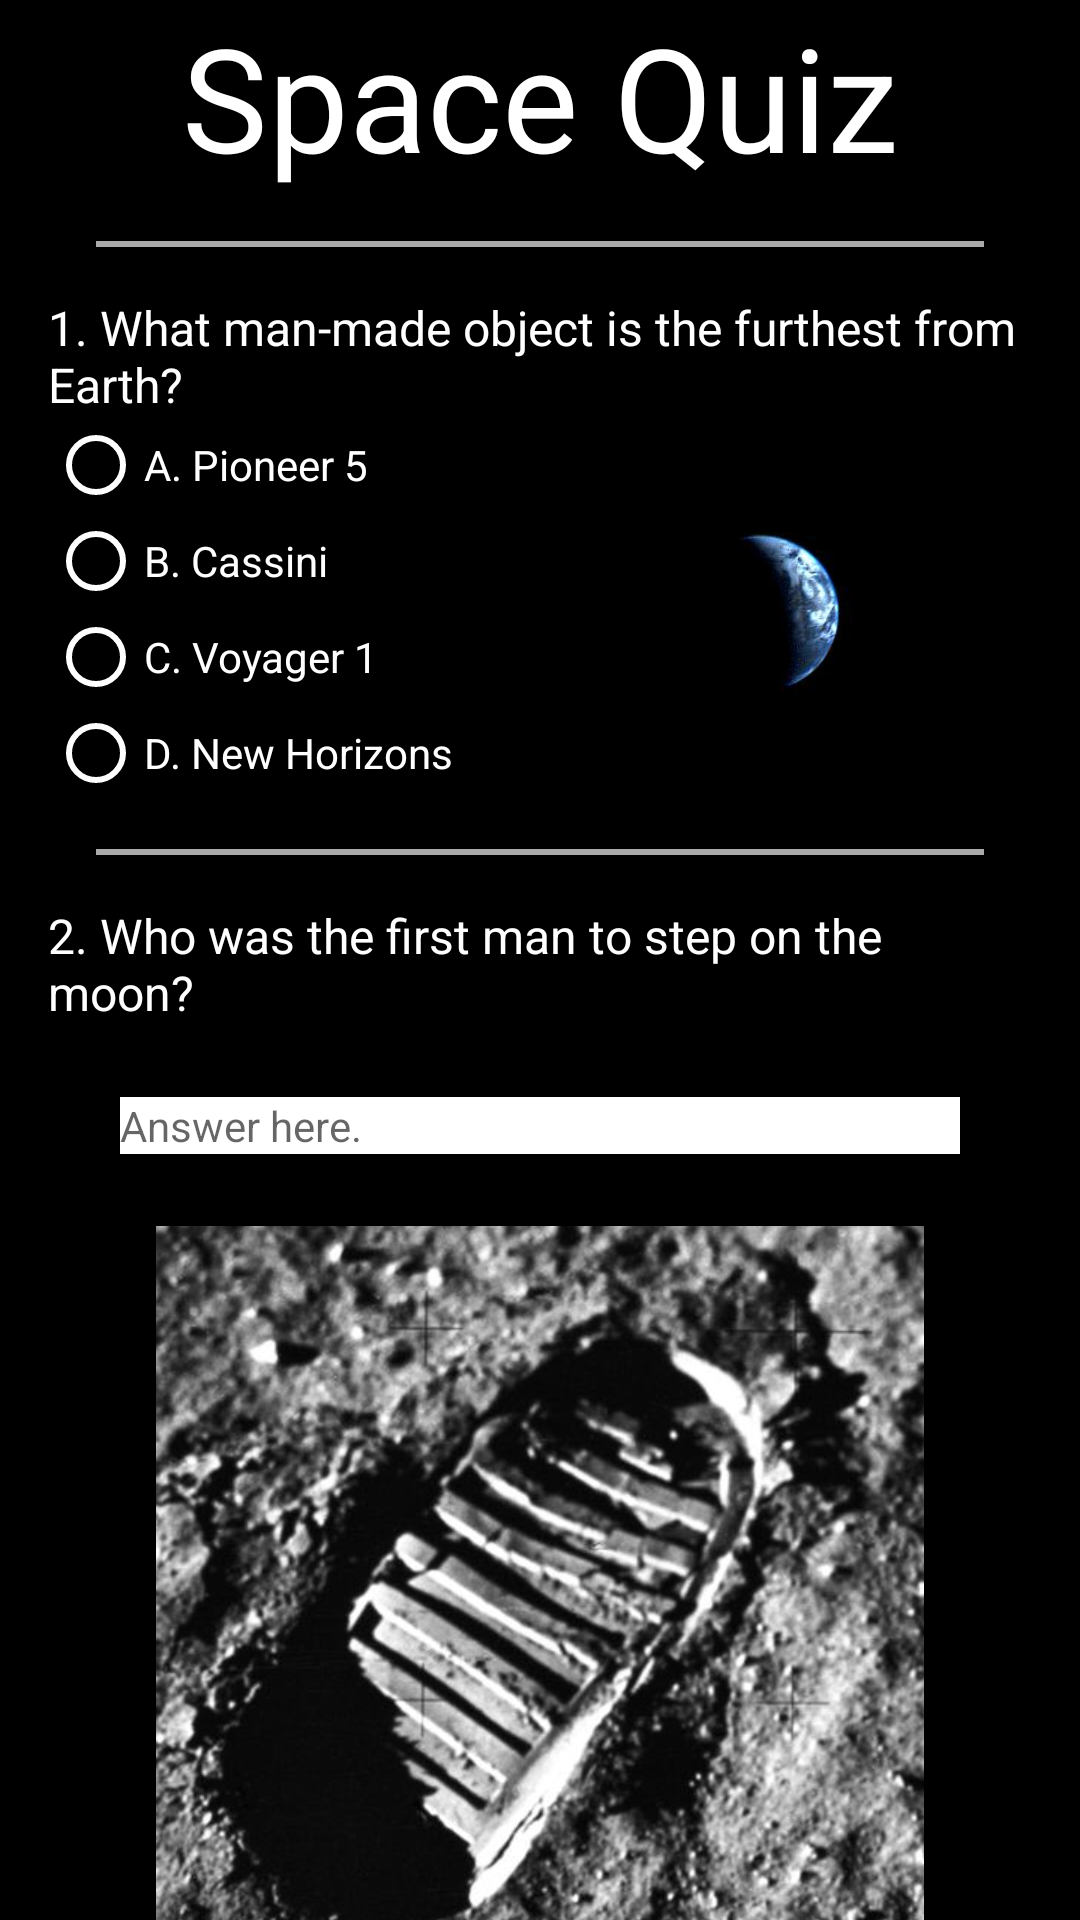

Point at icon controls on the screen. Image size 1080w x 1920h, points as [x,y].
An image of the Earth at distance: [791,610]
